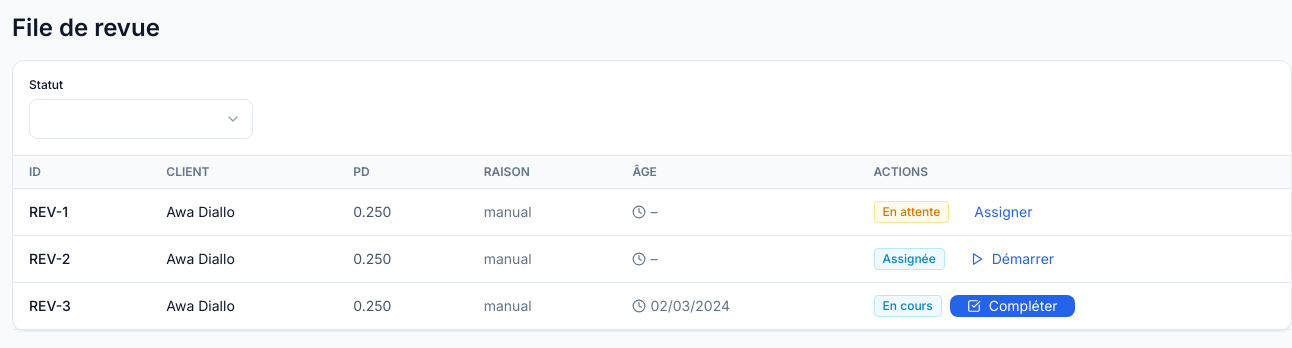
Test: ReviewQueuePage › filters reviews by status
Step 1. Select "En cours" in the dropdown labelled "Statut" → (141, 119), box [29,99,253,139]
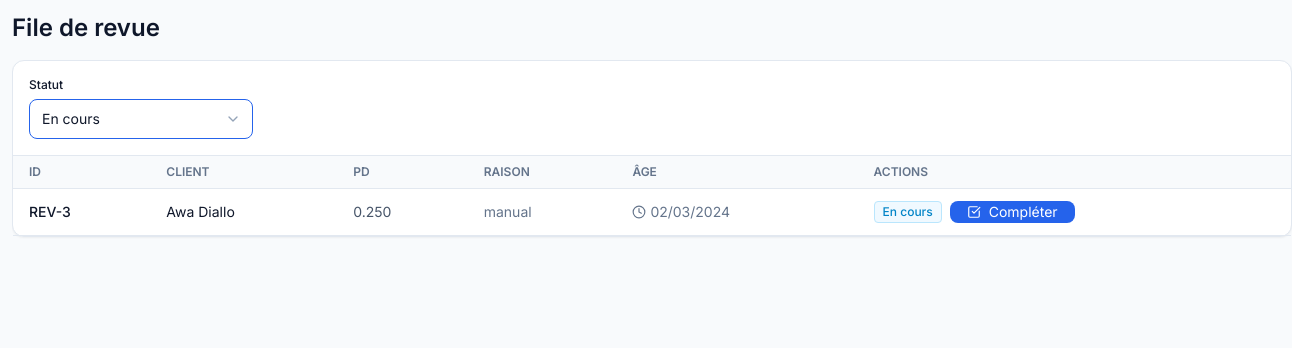
expect the text "REV-3" is shown: met, box [13,188,150,236]
expect the text "REV-1" is gone: met
